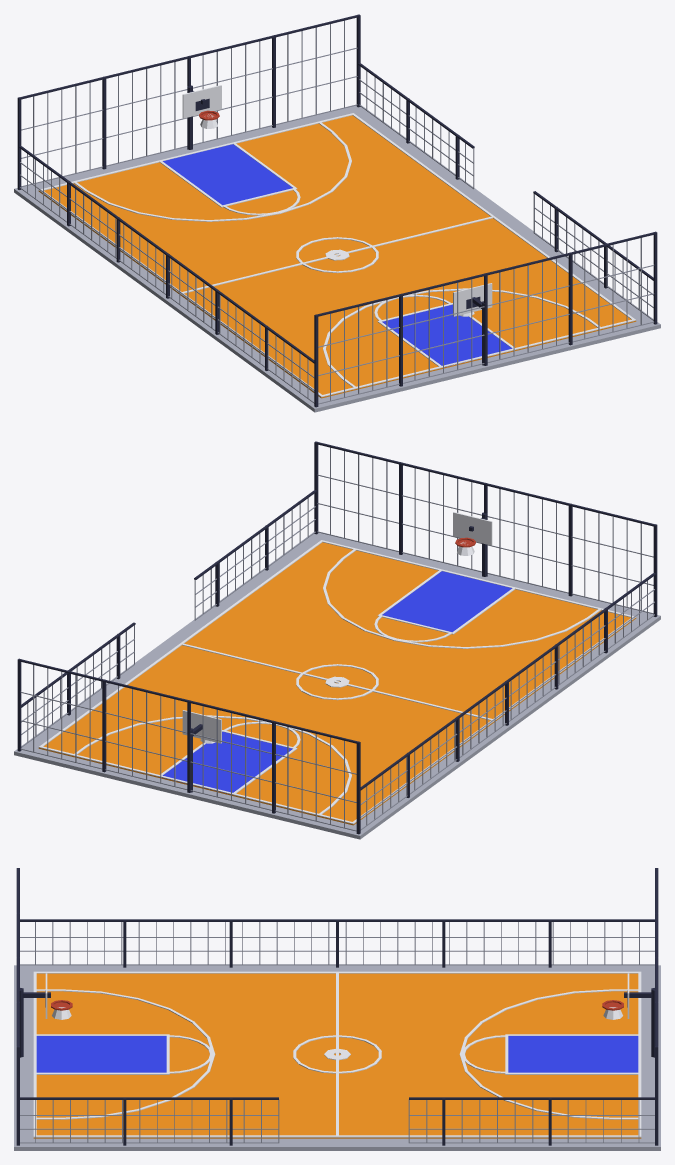
File: basketball-court-2x3.glb
3 views of the same model, one above another, from view 1: azimuth 30°, elevation 25°; view 2: azimuth 150°, elevation 25°; view 3: azimuth 270°, elevation 25° (orthographic). The views are drawn at different scales.
Visible parts, largest first — view 1: basketball-court-2x3; view 2: basketball-court-2x3; view 3: basketball-court-2x3.
Part boxes in pixels (x1,y1,x2,y2): basketball-court-2x3: [14, 14, 660, 412]; basketball-court-2x3: [14, 441, 660, 839]; basketball-court-2x3: [14, 868, 660, 1150].
Size of the model in its own units: 1.98 by 0.52 by 2.98.
Materials: 1 (1 with a texture image).
